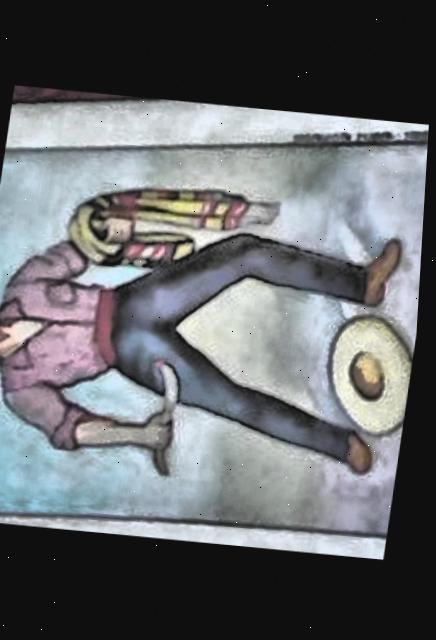El Valiente: (0, 135, 430, 529)
